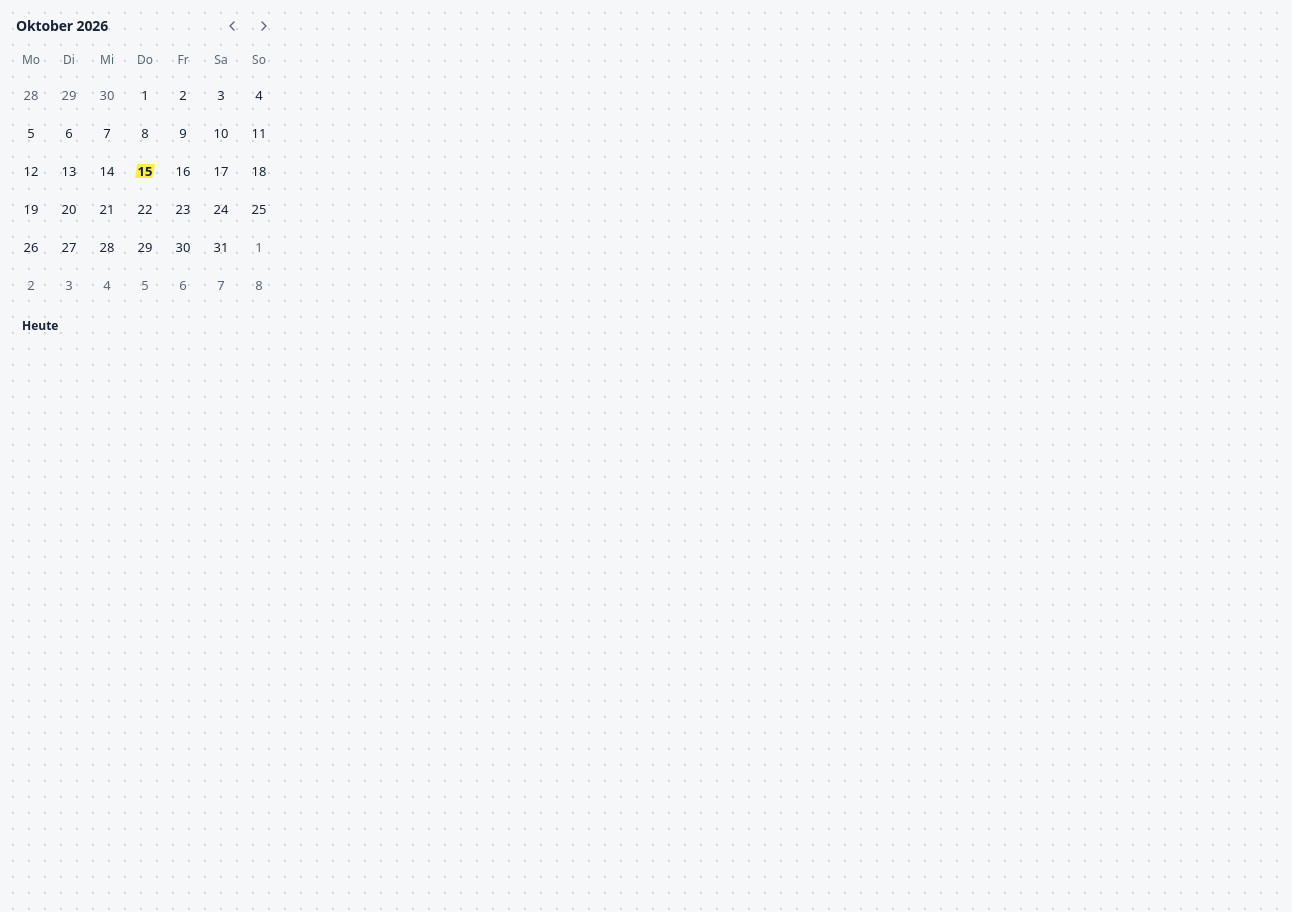
Test case: Calendar › picks a day of the neighbouring month and shows that month
This screenshot has width=1292, height=912.
Click the 2nd button "1": (259, 247) [241, 229, 277, 265]
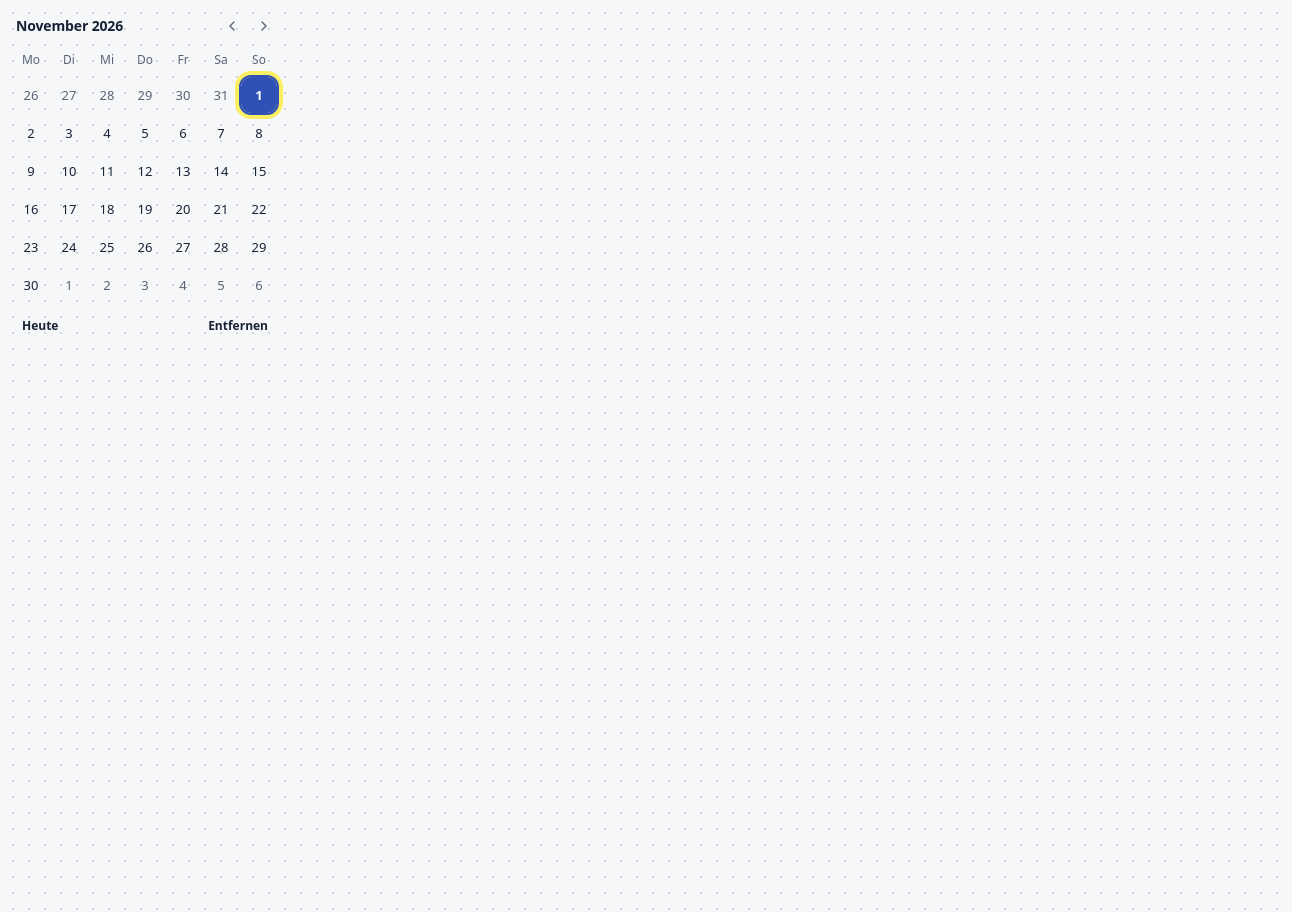
Now the text "November 2026" is shown, box [16, 16, 123, 35]
